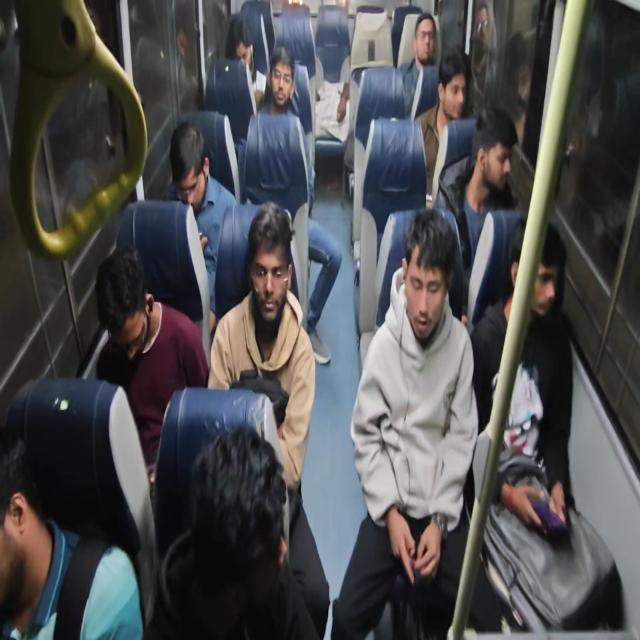person: (198, 428, 297, 610), (400, 211, 462, 346), (0, 422, 46, 596), (95, 248, 154, 362), (512, 215, 566, 339), (245, 204, 291, 333), (166, 120, 217, 212), (473, 96, 518, 196), (435, 45, 471, 123), (222, 6, 260, 76), (269, 41, 298, 114), (412, 4, 440, 72)
